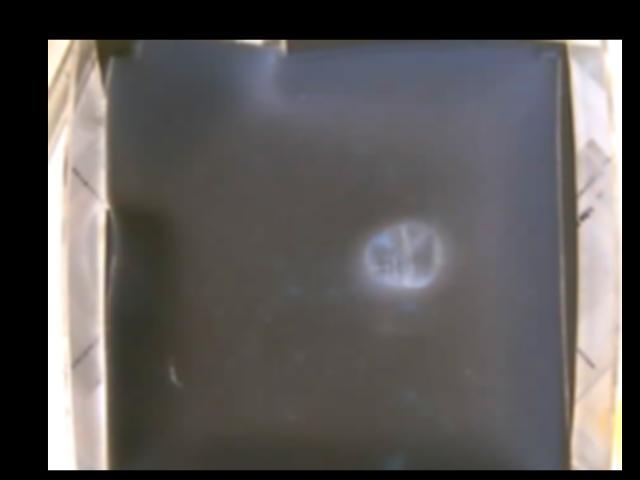Pebble: (365, 222, 439, 289)
